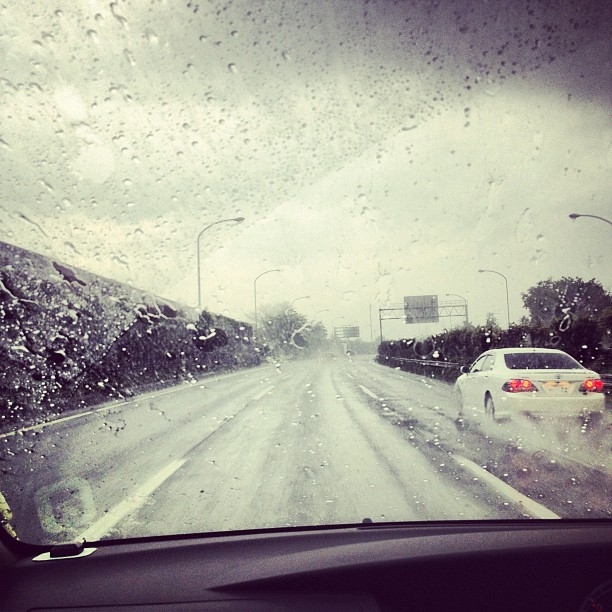car: (460, 345, 612, 431)
road: (22, 364, 599, 589)
sky: (9, 1, 612, 289)
